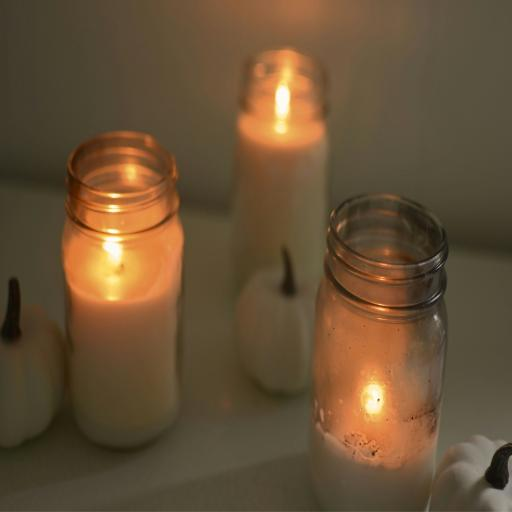candlelight: (49, 110, 198, 434), (214, 16, 334, 330), (320, 208, 437, 512)
